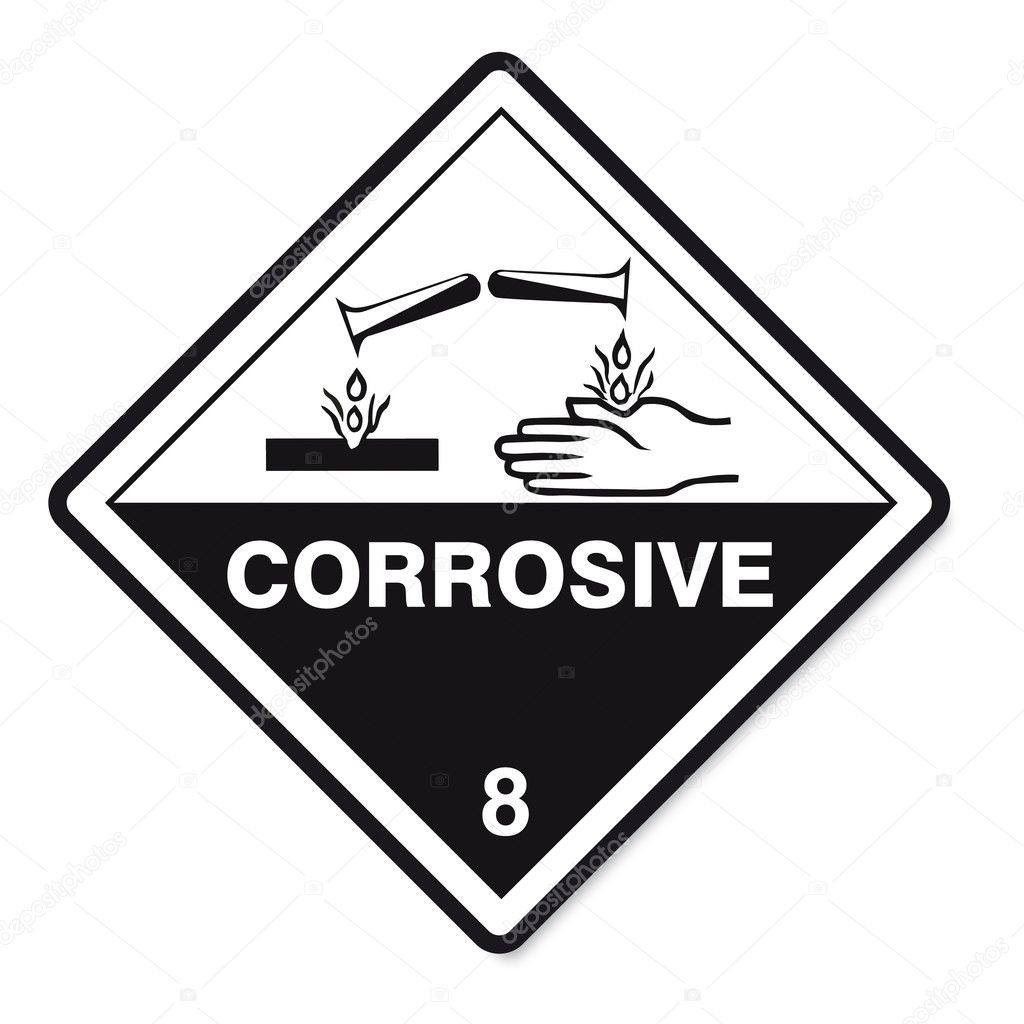Corrosive: (48, 52, 951, 955)
